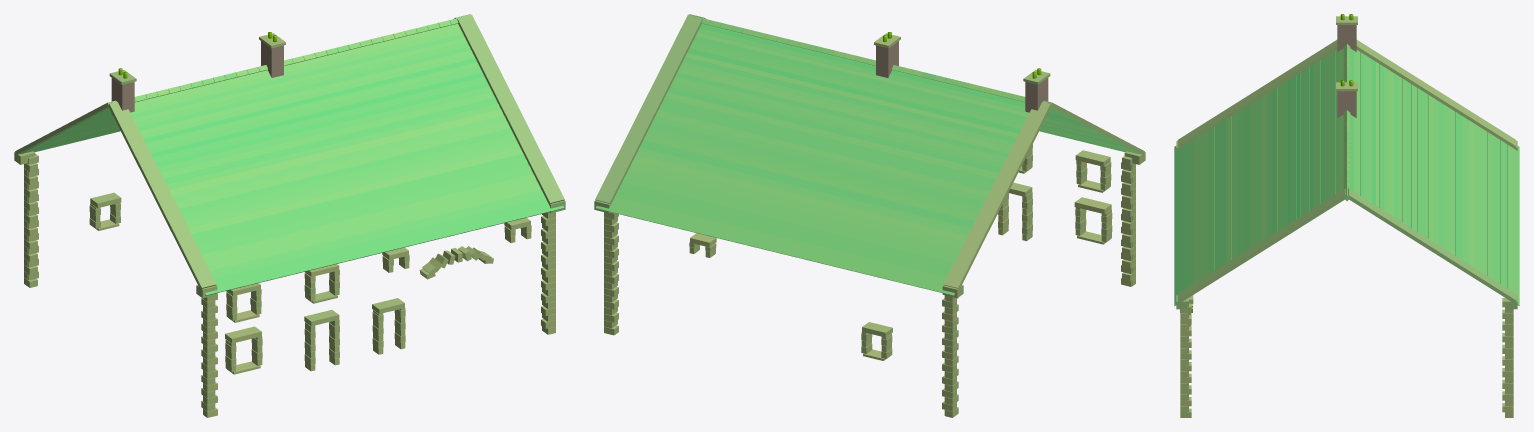
File: SM_Bld_019_Stone.glb
The picture shows the model from 3 angles, left to right: view 1: azimuth 30°, elevation 25°; view 2: azimuth 150°, elevation 25°; view 3: azimuth 270°, elevation 25°; orthographic projection. The views are drawn at different scales.
Visible parts, largest first — view 1: SM_Bld_019_Stone; view 2: SM_Bld_019_Stone; view 3: SM_Bld_019_Stone.
Boxes of the visible parts, bbox=[...] form: SM_Bld_019_Stone: bbox=[14, 14, 565, 417]; SM_Bld_019_Stone: bbox=[594, 14, 1145, 417]; SM_Bld_019_Stone: bbox=[1174, 14, 1519, 417].
Bounding box in the file's own units: 17.75 × 12.97 × 16.11.
